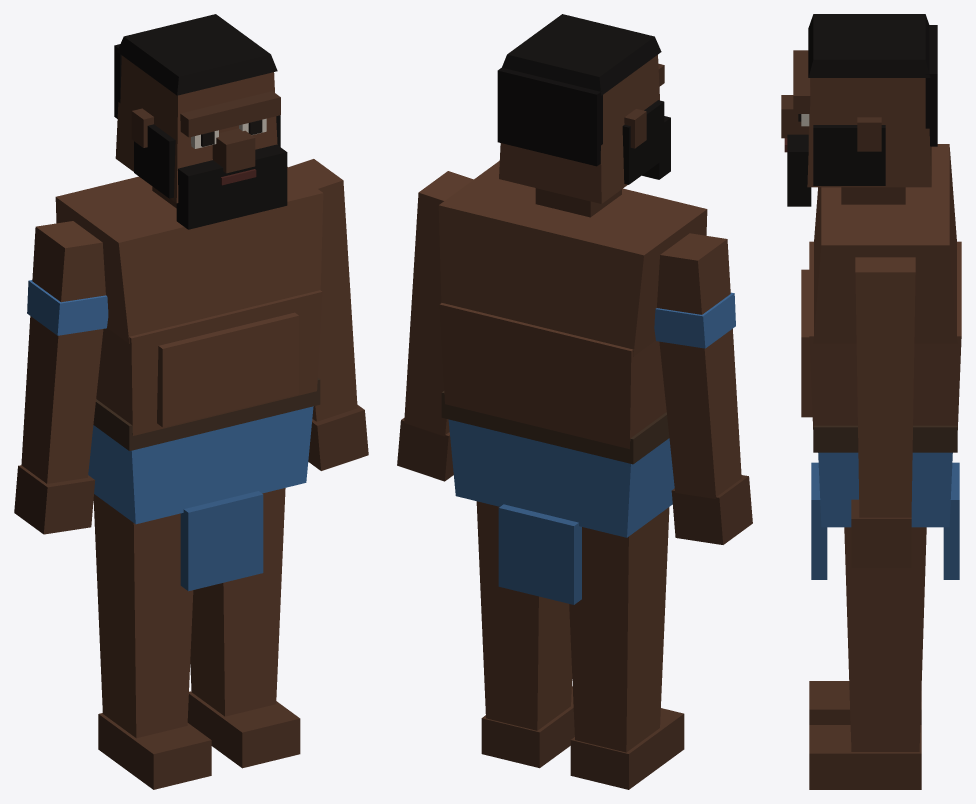
The model's file is fighter_B1.glb.
The picture shows the model from 3 angles, left to right: view 1: azimuth 30°, elevation 25°; view 2: azimuth 150°, elevation 25°; view 3: azimuth 270°, elevation 25°; orthographic projection.
Visible parts, largest first — view 1: torso, head, hips, leg_R, arm_R, leg_L, arm_L; view 2: torso, head, hips, leg_R, arm_R, leg_L, arm_L; view 3: torso, head, leg_L, arm_L, hips, leg_R.
Part boxes in pixels (x1,y1,x2,y2): torso: (55,167,323,435); head: (114,14,287,229); hips: (88,378,320,591); leg_R: (93,494,211,789); arm_R: (14,221,108,534); leg_L: (187,488,300,768); arm_L: (288,159,368,470); torso: (438,161,707,449); head: (497,14,670,217); hips: (441,391,674,604); leg_R: (569,507,684,789); arm_R: (654,233,752,544); leg_L: (476,501,574,768); arm_L: (397,171,473,481); torso: (801,144,961,429); head: (781,14,937,206); leg_L: (809,527,926,789); arm_L: (851,257,915,567); hips: (811,425,959,579); leg_R: (809,681,921,724).
Bounding box in the file's own units: 0.9528 × 1.97 × 0.45.
